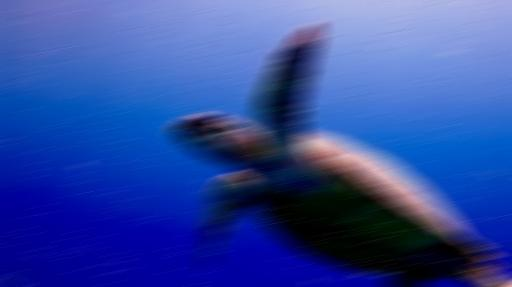Fish: (171, 22, 511, 286)
